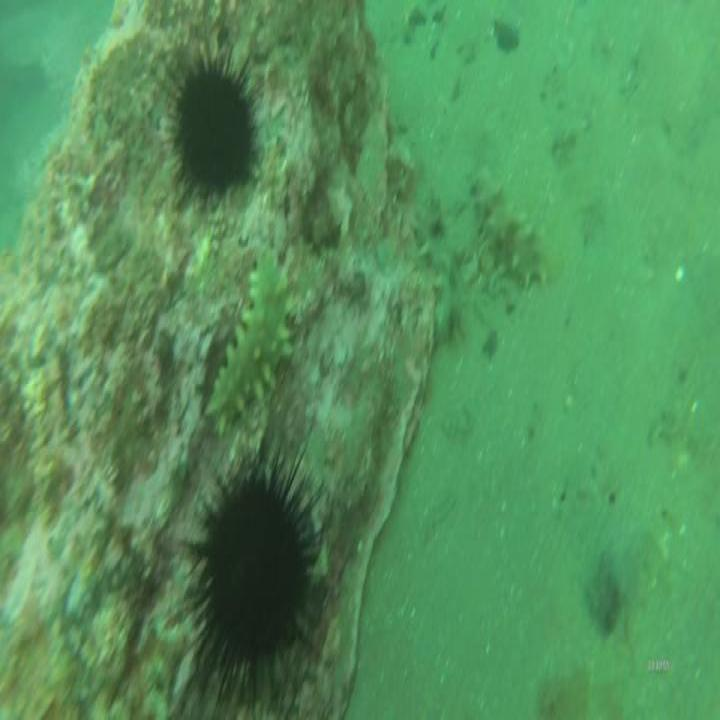echinus: (169, 434, 336, 718), (148, 32, 270, 220)
holothurian: (202, 244, 296, 436), (468, 163, 550, 294), (410, 190, 471, 343)
